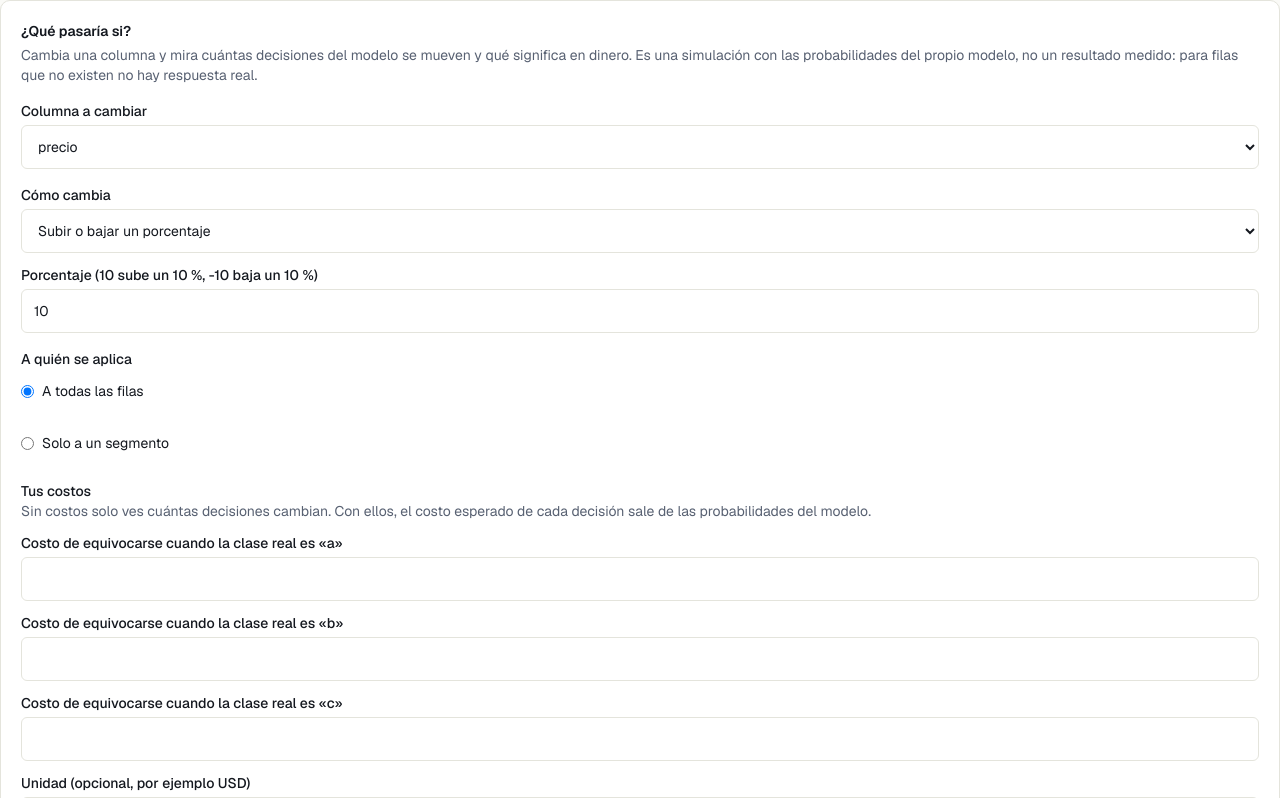
el panel «¿Qué pasaría si?» › con varias clases, si falta el costo de alguna lo dice (S21, lote 19-03/04)
The width and height of the screenshot is (1280, 798).
Expected: the text "Escribe el costo de todas las clases" is not shown
Type "5" into the field labelled "Costo de equivocarse cuando la clase real es «a»" at (640,579), box [21,557,1259,601]
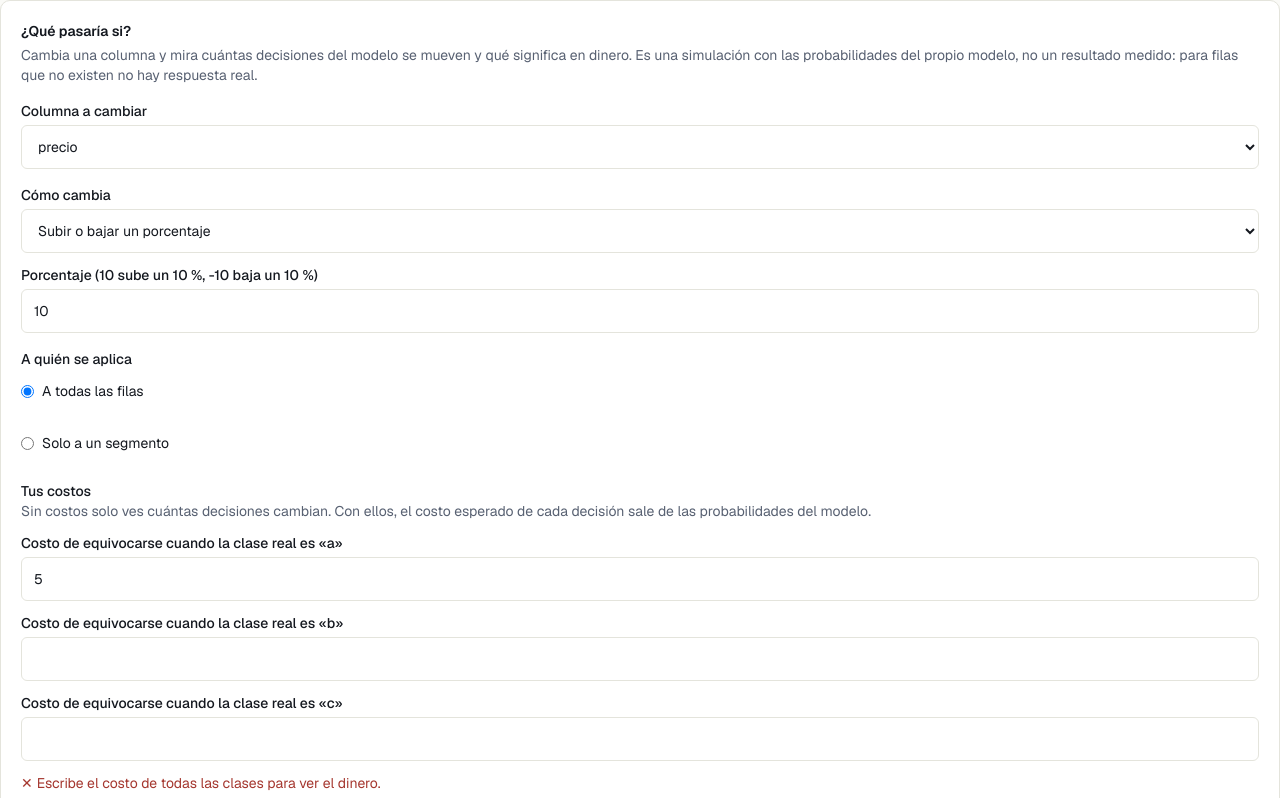
Expected: the text "Escribe el costo de todas las clases para ver el dinero." is shown, [37,774,381,792]
Type "7" into the field labelled "Costo de equivocarse cuando la clase real es «b»" at (640,659), box [21,637,1259,681]
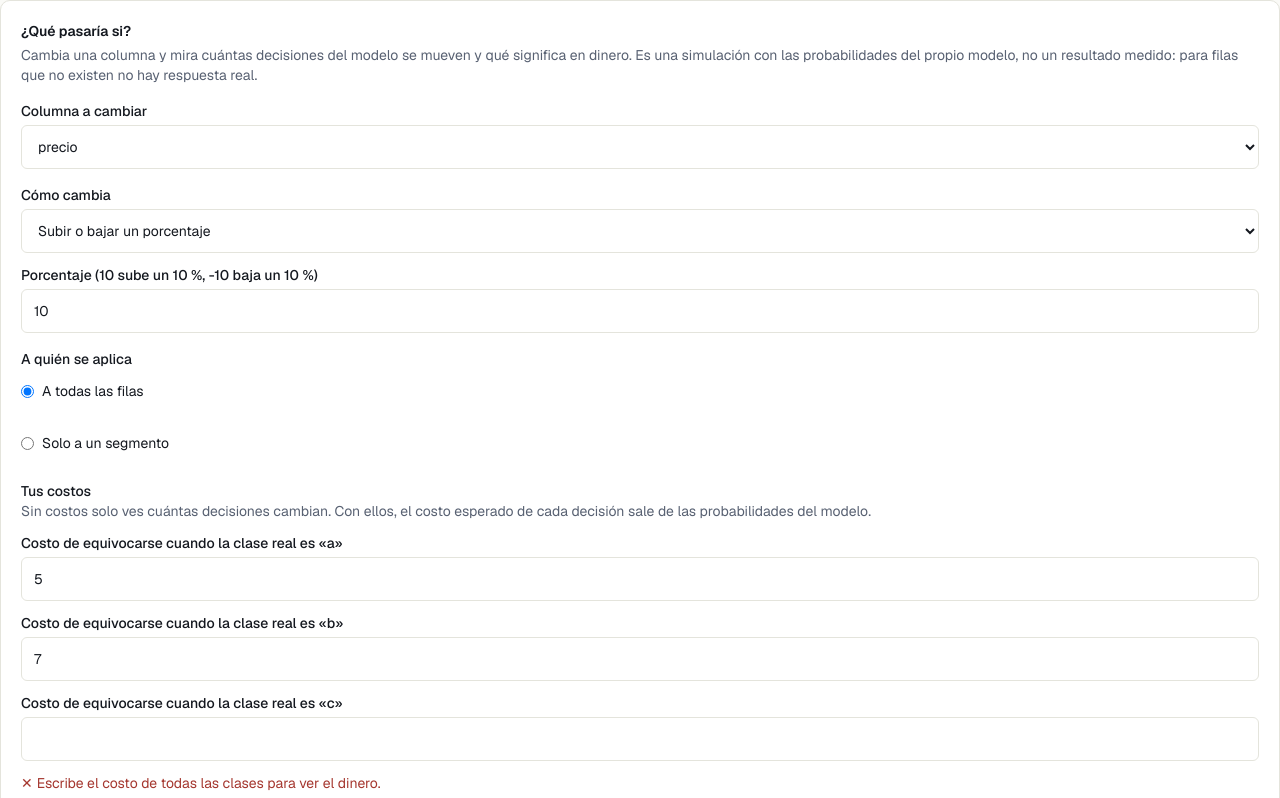
Type "9" into the field labelled "Costo de equivocarse cuando la clase real es «c»" at (640,739), box [21,717,1259,761]
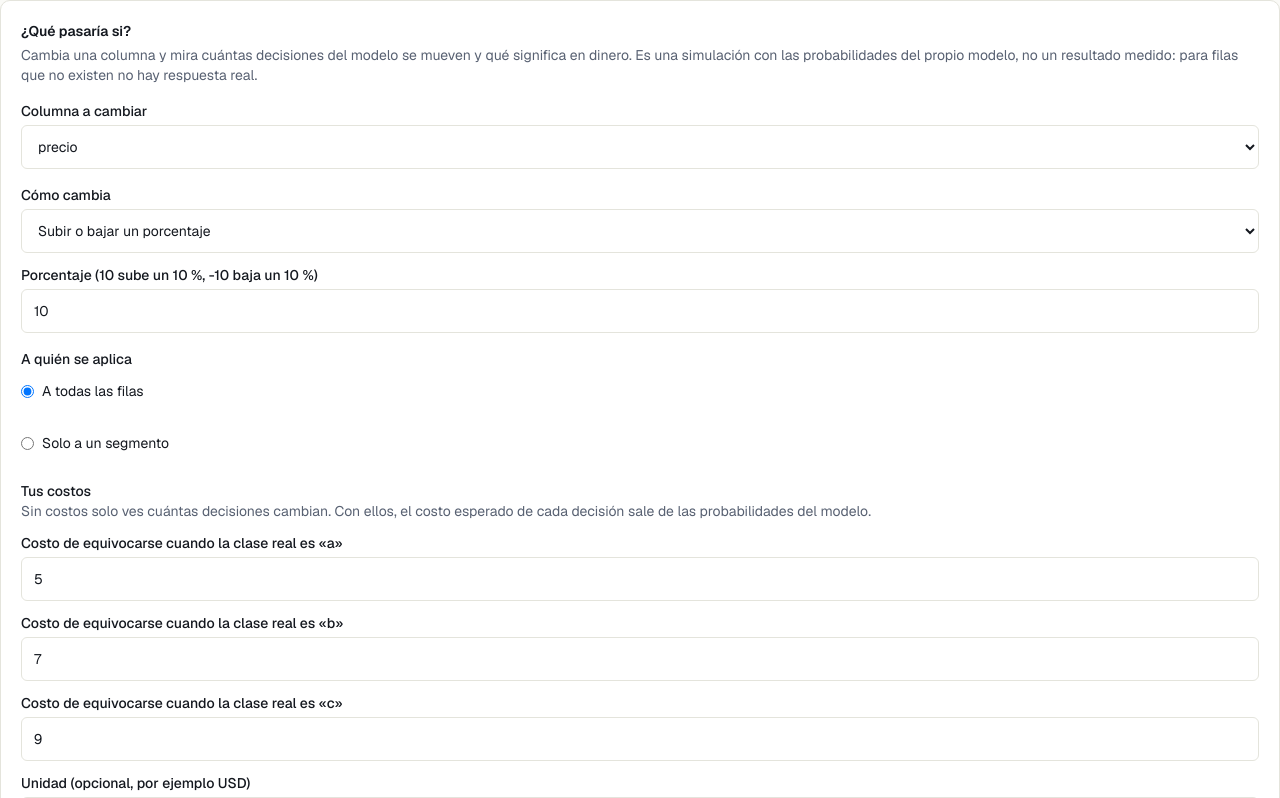
Expected: the text "Escribe el costo de todas las clases" is gone
